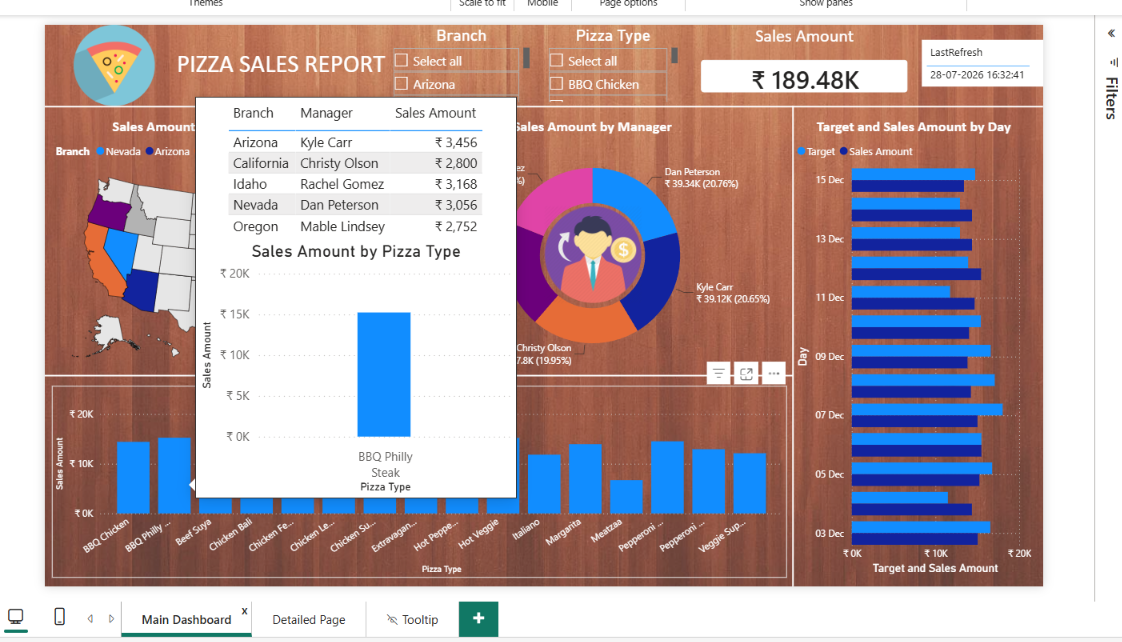

Layout of this report page (visuals, bound fields, positions):
{"tool":"powerbi","page":{"name":"Main Dashboard","canvas":[1280,720],"ordinal":0},"visuals":[{"type":"image","box":[34.4,0,109.2,104.3],"z":0},{"type":"textbox","box":[164.4,25.8,289.6,54],"z":1000},{"type":"tableEx","fields":{"Values":["LastRefreshdate.LastRefresh"]},"box":[1123.9,19.6,155.8,60.1],"z":2000},{"type":"shapeMap","fields":{"Category":["Branch Data.Branch"],"Series":["Branch Data.Branch"],"Value":["Sum(Sales.Sales Ampunt)"]},"box":[8.6,119,434.4,331.3],"z":3000},{"type":"donutChart","fields":{"Y":["Sum(Sales.Sales Ampunt)"],"Category":["Branch Data.Manager"]},"box":[454,119,496.9,331.3],"z":4000},{"type":"clusteredColumnChart","fields":{"Category":["Sales.Pizza Type"],"Y":["Sum(Sales.Sales Ampunt)"]},"box":[8.6,462.6,942.3,246.6],"z":5000},{"type":"clusteredBarChart","fields":{"Category":["Daily Target.Day"],"Y":["Sum(Daily Target.Target)","Sum(Sales.Sales Ampunt)"]},"box":[959.5,119,310.4,590.2],"z":6000},{"type":"cardVisual","title":"Sales Amount","fields":{"Data":["Sum(Sales.Sales Amount)"]},"box":[824.5,0,299.4,104.3],"z":7000},{"type":"image","box":[639.3,222.1,126.4,146],"z":8000},{"type":"shape","box":[0,85.9,1279.8,38],"z":9000},{"type":"shape","box":[0,430.7,959.5,38],"z":10000},{"type":"shape","box":[936.2,104.3,46.6,616],"z":11000},{"type":"shape","box":[430.7,104.3,46.6,346],"z":12000},{"type":"listSlicer","fields":{"Values":["Branch Data.Branch"]},"box":[442.9,1.2,184.1,103.1],"z":13000},{"type":"listSlicer","fields":{"Values":["Sales.Pizza Type"]},"box":[640.5,1.2,175.5,103.1],"z":14000}]}

Visuals, with their boxes on the page's 1280x720 design canvas (x1, y1, x2, y2). These are canvas units, not pixel positions in the 1122x642 screenshot, which may show the page scaled, cropped or inside an application window:
image: [x1=34, y1=0, x2=144, y2=104]
textbox: [x1=164, y1=26, x2=454, y2=80]
tableEx - LastRefreshdate.LastRefresh: [x1=1124, y1=20, x2=1280, y2=80]
shapeMap - Branch Data.Branch x Branch Data.Branch: [x1=9, y1=119, x2=443, y2=450]
donutChart - Sum(Sales.Sales Ampunt) x Branch Data.Manager: [x1=454, y1=119, x2=951, y2=450]
clusteredColumnChart - Sales.Pizza Type x Sum(Sales.Sales Ampunt): [x1=9, y1=463, x2=951, y2=709]
clusteredBarChart - Daily Target.Day x Sum(Daily Target.Target): [x1=960, y1=119, x2=1270, y2=709]
"Sales Amount" cardVisual: [x1=824, y1=0, x2=1124, y2=104]
image: [x1=639, y1=222, x2=766, y2=368]
shape: [x1=0, y1=86, x2=1280, y2=124]
shape: [x1=0, y1=431, x2=960, y2=469]
shape: [x1=936, y1=104, x2=983, y2=720]
shape: [x1=431, y1=104, x2=477, y2=450]
listSlicer - Branch Data.Branch: [x1=443, y1=1, x2=627, y2=104]
listSlicer - Sales.Pizza Type: [x1=640, y1=1, x2=816, y2=104]
